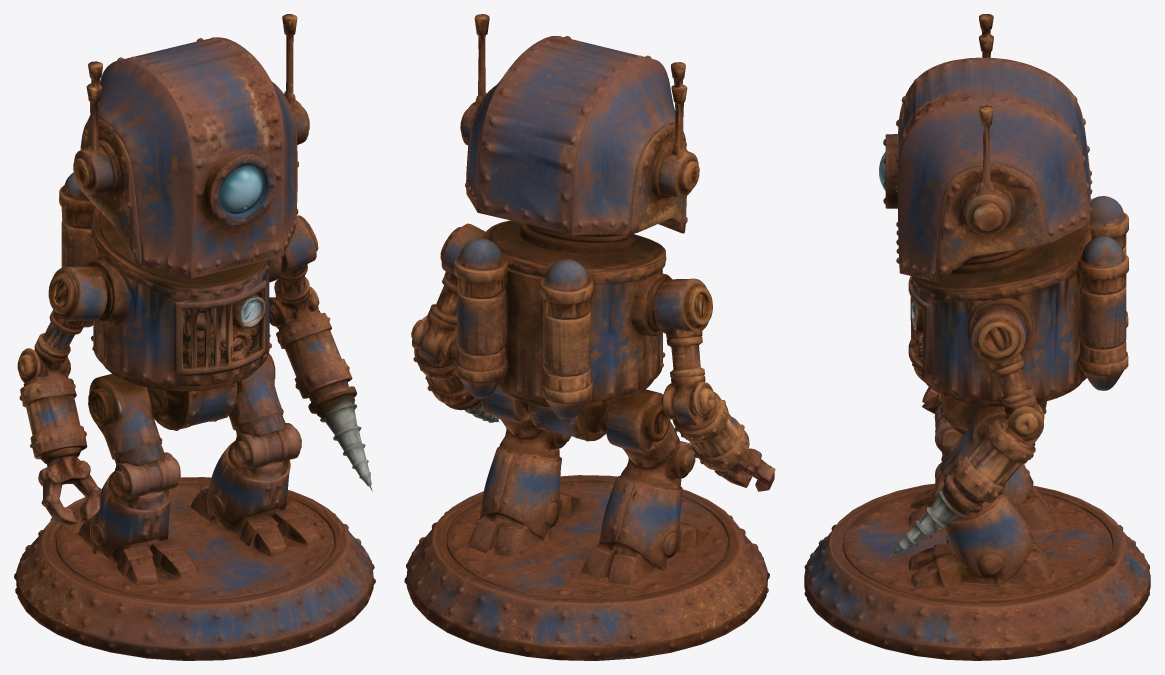
The model's file is pixellabs-glb-3395.high.glb.
3 renders of one model, left to right at view 1: azimuth 30°, elevation 25°; view 2: azimuth 150°, elevation 25°; view 3: azimuth 270°, elevation 25°, orthographic. The views are drawn at different scales.
Parts seen in each view (by area): view 1: material; view 2: material; view 3: material.
Boxes of the visible parts, box(x1,y1,x2,y2) form: material: box(14, 14, 375, 660); material: box(404, 14, 775, 660); material: box(804, 14, 1150, 660).
Bounding box in the file's own units: 0.6438 × 1.03 × 0.6116.
1 material, 1 textured.
